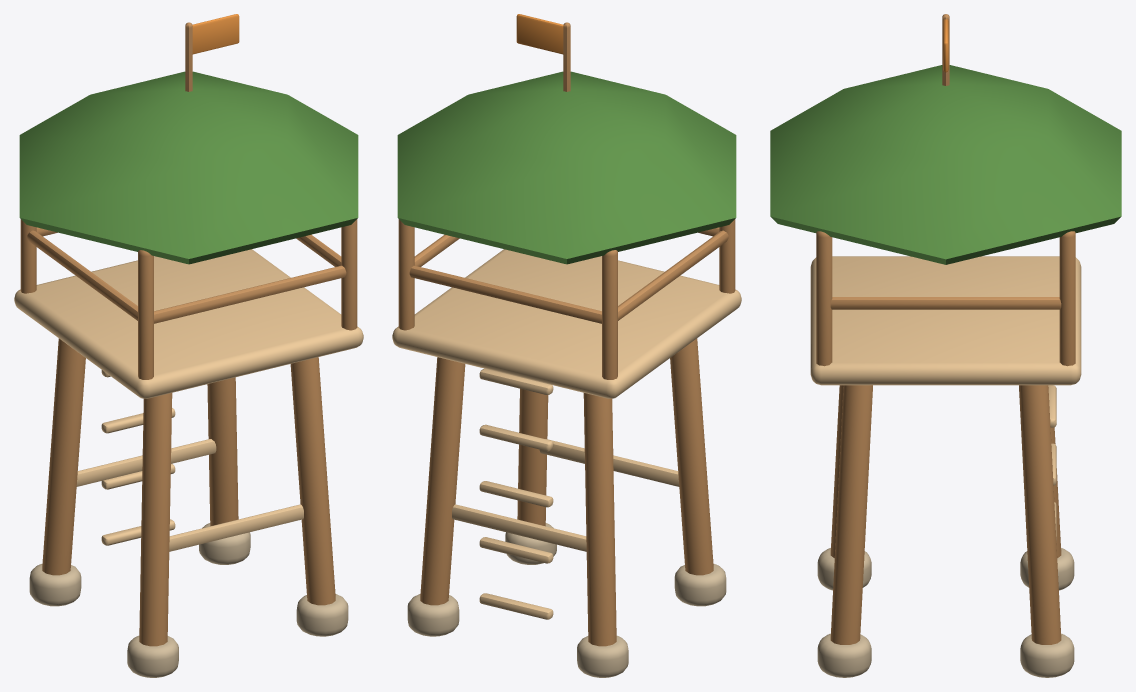
File: ow_lookout.glb
3 views of the same model, side by side, from view 1: azimuth 30°, elevation 25°; view 2: azimuth 150°, elevation 25°; view 3: azimuth 270°, elevation 25° (orthographic). The views are drawn at different scales.
Parts seen in each view (by area): view 1: OwLookout; view 2: OwLookout; view 3: OwLookout.
Part boxes in pixels (bbox=[...]): OwLookout: bbox=[14, 14, 363, 677]; OwLookout: bbox=[392, 14, 741, 677]; OwLookout: bbox=[770, 14, 1121, 677].
Bounding box in the file's own units: 2.4 × 4 × 2.08.
